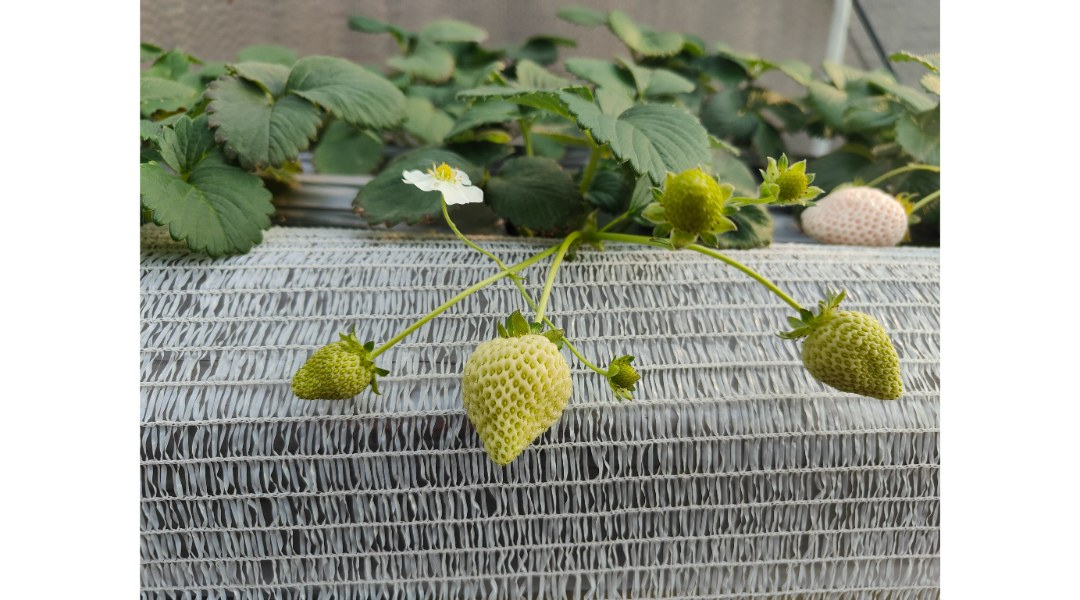berry: (454, 323, 576, 475), (775, 290, 916, 407), (801, 174, 927, 249), (270, 328, 382, 409), (647, 165, 739, 242)
flower: (395, 162, 493, 210), (759, 153, 817, 210)
strain: (398, 279, 496, 340), (715, 252, 800, 307), (438, 219, 507, 265), (545, 241, 570, 302)
